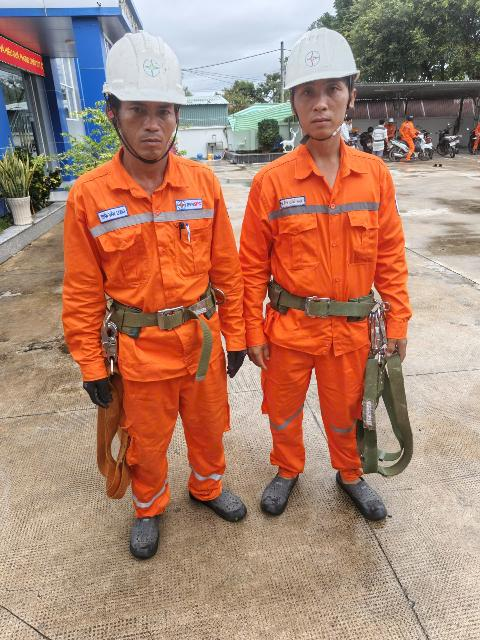gloves: (72, 358, 127, 429), (224, 340, 248, 380)
harness: (80, 280, 227, 350), (261, 270, 392, 332)
helmet: (71, 11, 207, 119), (265, 20, 382, 98)
shoes: (326, 468, 395, 537), (107, 508, 175, 572), (196, 470, 260, 526), (241, 464, 301, 522)
